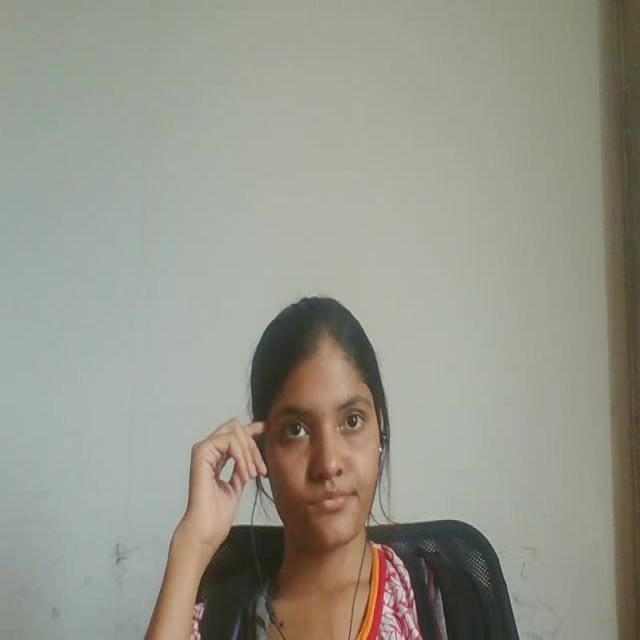Bored: (212, 272, 404, 570)
